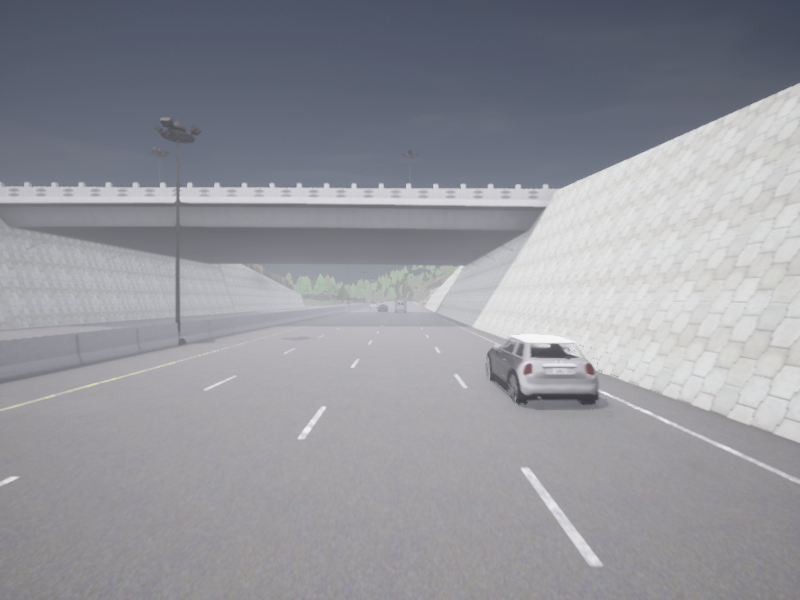vehicle: (486, 335, 598, 403), (394, 300, 406, 311), (378, 304, 388, 311), (370, 301, 378, 308), (378, 301, 384, 305)
